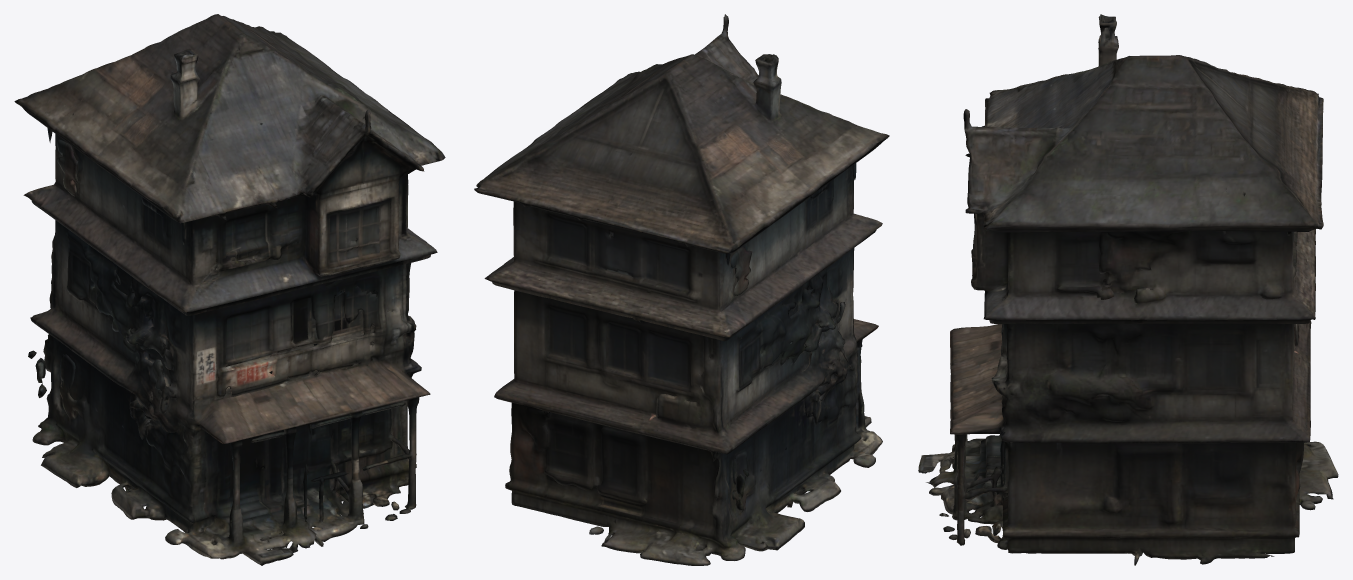
File: Create_a_3_story_hous_0422083403_refine.fbx
3 renders of one model, left to right at view 1: azimuth 30°, elevation 25°; view 2: azimuth 150°, elevation 25°; view 3: azimuth 270°, elevation 25°, orthographic. The views are drawn at different scales.
Visible parts, largest first — view 1: Mesh1; view 2: Mesh1; view 3: Mesh1.
Part boxes in pixels (x1,y1,x2,y2): Mesh1: (14,14,445,565); Mesh1: (474,14,889,565); Mesh1: (918,14,1338,565).
Bounding box in the file's own units: 131 × 200 × 166.
Materials: 1 (1 with a texture image).
